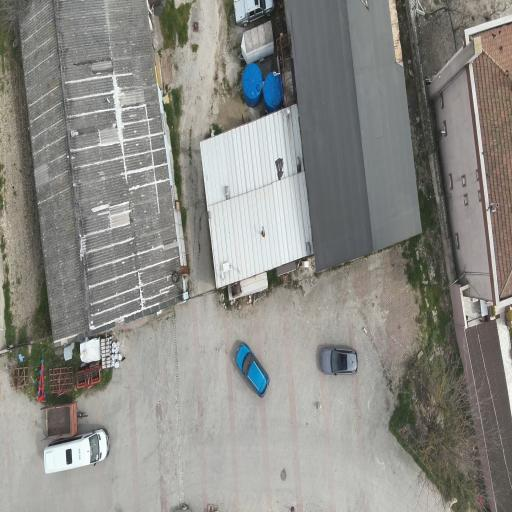car: (44, 430, 109, 473), (236, 343, 269, 396), (234, 0, 273, 27), (321, 347, 357, 374)
